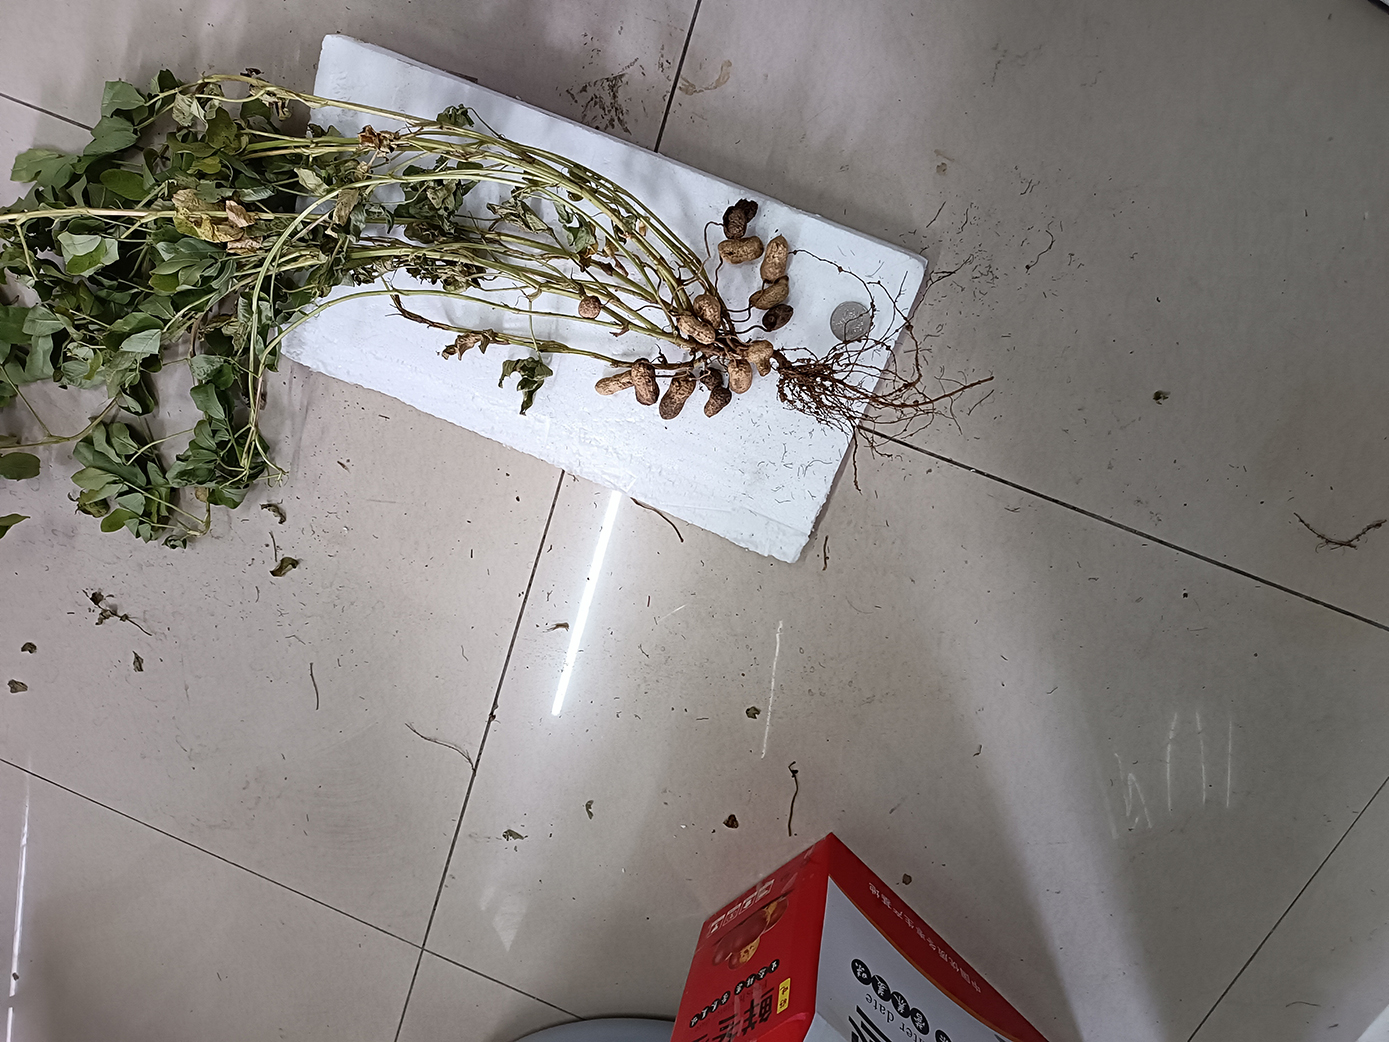h: (761, 233, 788, 283), (719, 236, 763, 266), (676, 312, 714, 344), (749, 281, 791, 308), (693, 293, 720, 327), (727, 359, 752, 394), (593, 374, 632, 396), (749, 340, 769, 377), (578, 296, 601, 319)
l: (659, 370, 695, 420), (722, 198, 757, 238), (632, 358, 657, 404), (764, 304, 792, 333), (705, 387, 731, 417), (701, 366, 721, 389)
